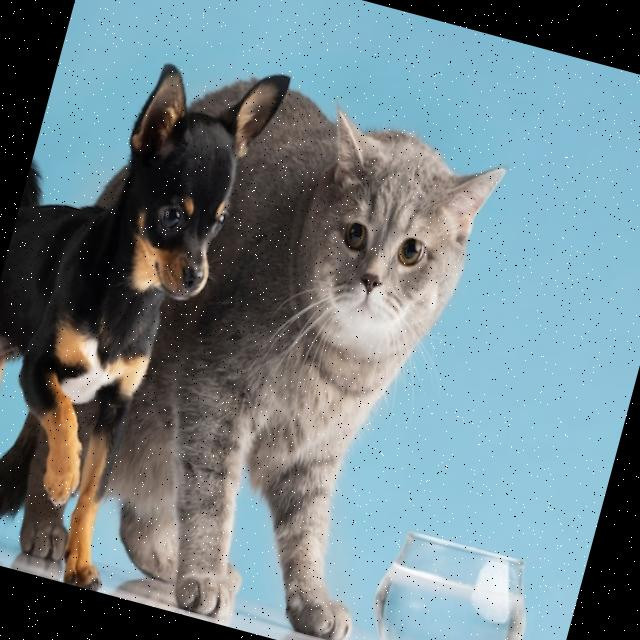Dog: (0, 16, 291, 606)
